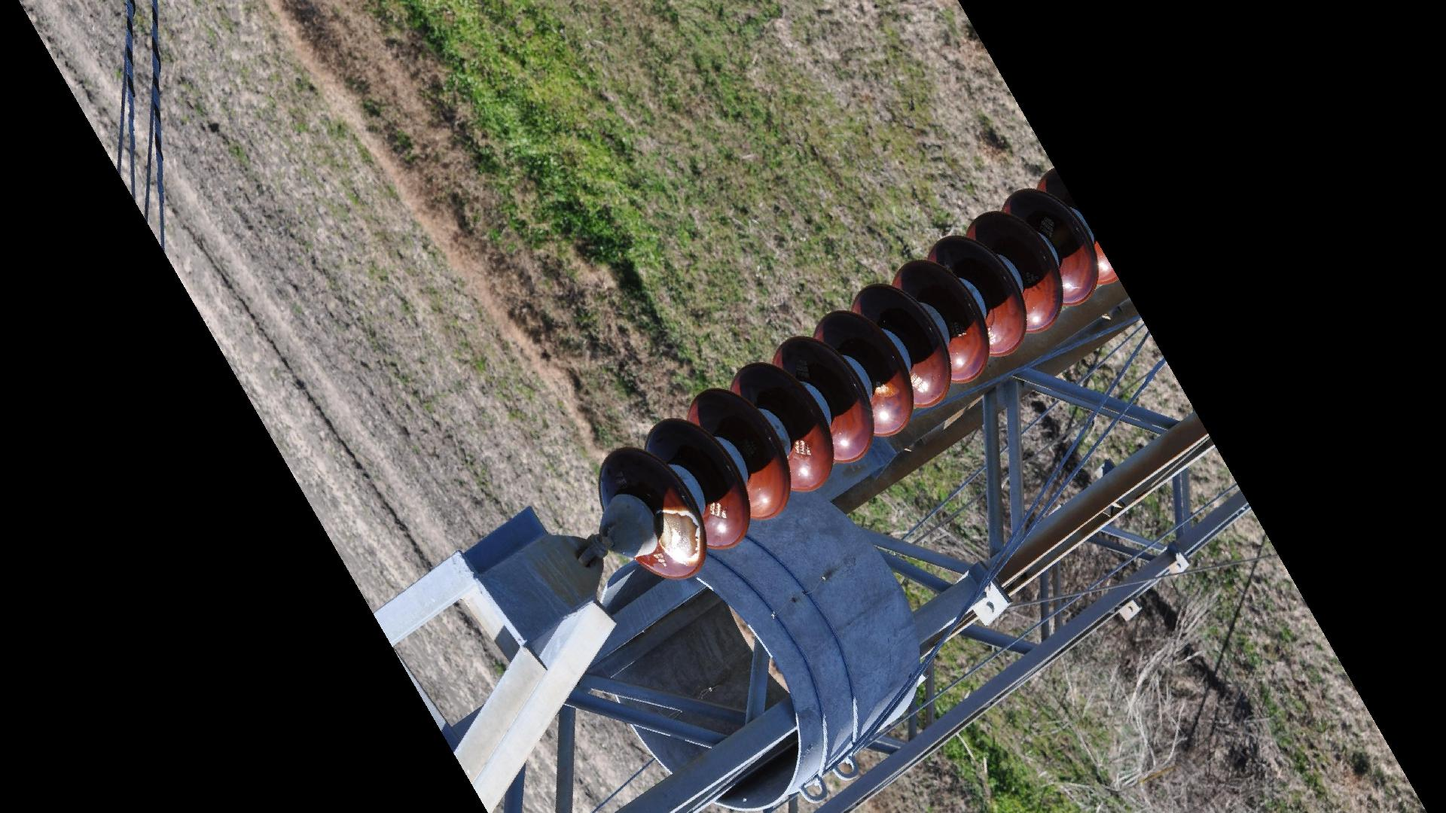insulator: (591, 165, 1129, 586)
insulator_flashover: (648, 505, 703, 567)
